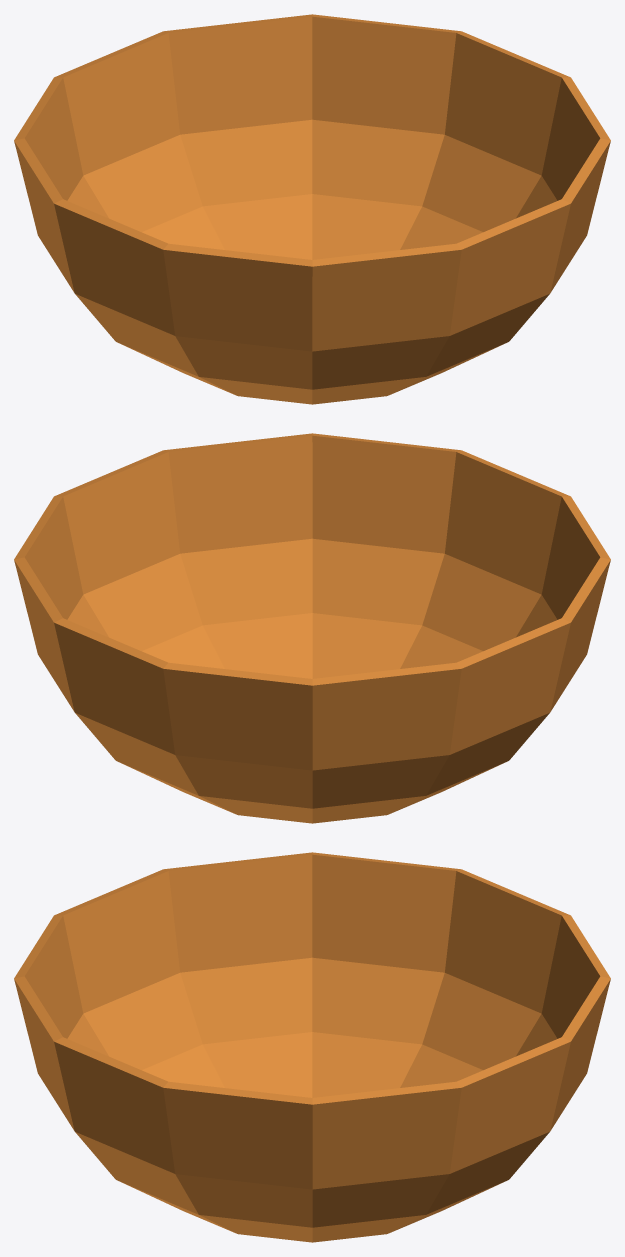
File: Bowl_01.fbx
3 views of the same model, one above another, from view 1: azimuth 30°, elevation 25°; view 2: azimuth 150°, elevation 25°; view 3: azimuth 270°, elevation 25° (orthographic).
Parts seen in each view (by area): view 1: Bowl_01; view 2: Bowl_01; view 3: Bowl_01.
Boxes of the visible parts, x1,y1,x2,y2 form: Bowl_01: [14, 14, 610, 404]; Bowl_01: [14, 433, 610, 823]; Bowl_01: [14, 852, 610, 1242].
Size of the model in its own units: 21.91 by 8.22 by 21.91.
